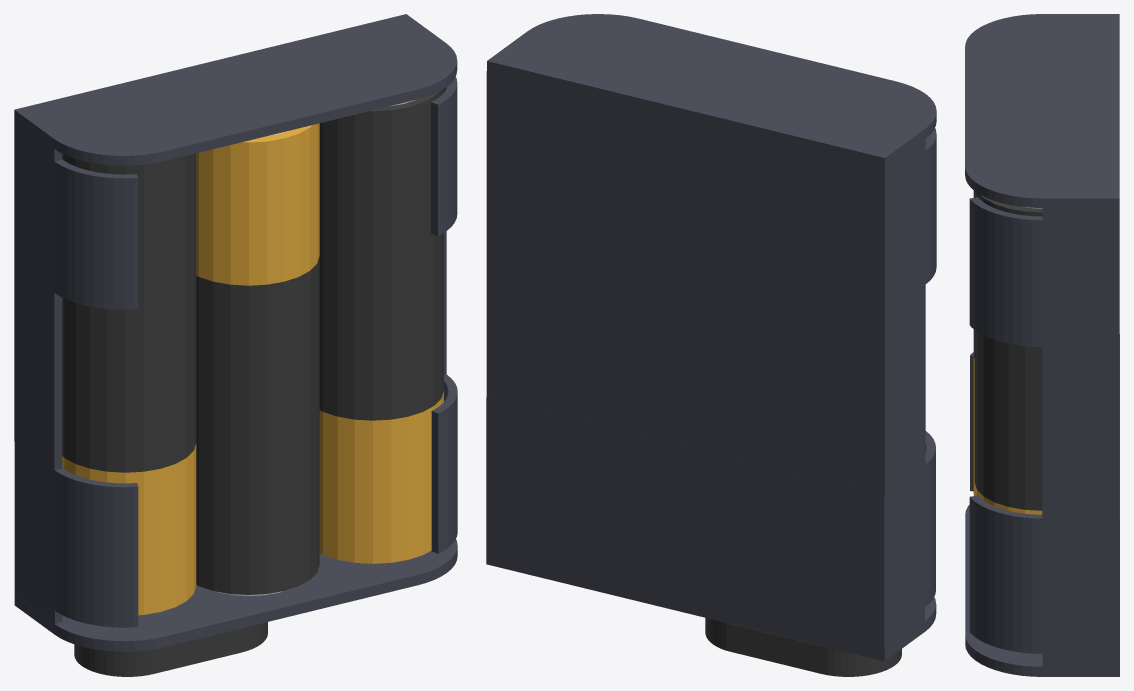
3 renders of one model, left to right at view 1: azimuth 30°, elevation 25°; view 2: azimuth 150°, elevation 25°; view 3: azimuth 270°, elevation 25°, orthographic. The views are drawn at different scales.
Visible parts, largest first — view 1: x aa battery box; view 2: x aa battery box; view 3: x aa battery box.
Part boxes in pixels (left/top/right/bottom): x aa battery box: left=14, top=14, right=457, bottom=676; x aa battery box: left=486, top=14, right=936, bottom=676; x aa battery box: left=965, top=14, right=1119, bottom=676.
Size of the model in its own units: 1.91 by 2.48 by 0.6745.
